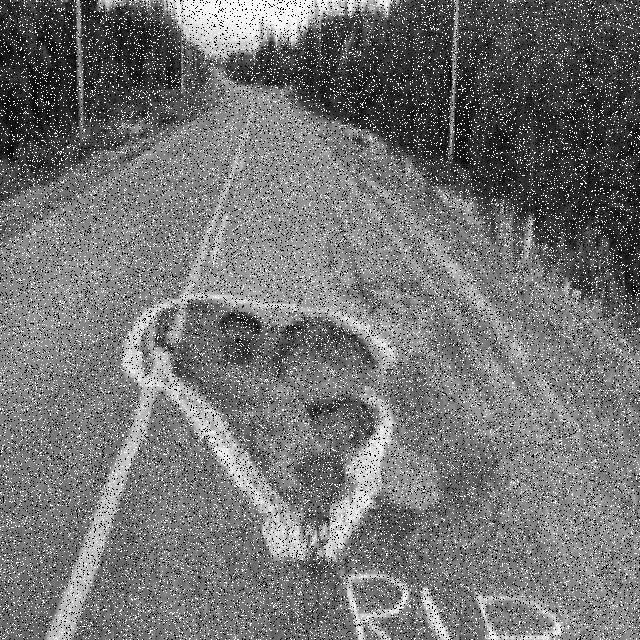pothole: (273, 317, 382, 526), (218, 312, 262, 365)
